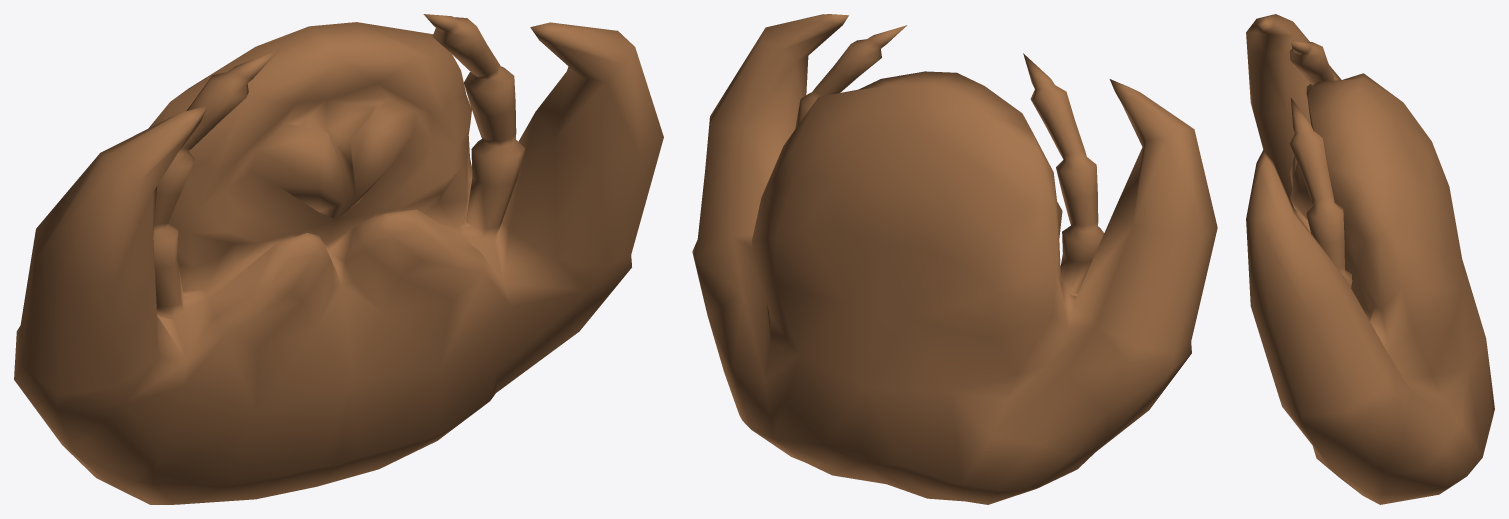
File: Miriapojaw.fbx
3 views of the same model, side by side, from view 1: azimuth 30°, elevation 25°; view 2: azimuth 150°, elevation 25°; view 3: azimuth 270°, elevation 25° (orthographic). The views are drawn at different scales.
Parts seen in each view (by area): view 1: Miriapojaw - MAVG; view 2: Miriapojaw - MAVG; view 3: Miriapojaw - MAVG.
Boxes of the visible parts, box(x1,y1,x2,y2) form: Miriapojaw - MAVG: box(14, 14, 663, 504); Miriapojaw - MAVG: box(692, 14, 1217, 504); Miriapojaw - MAVG: box(1246, 14, 1494, 504).
Size of the model in its own units: 111 by 85.79 by 49.47.
